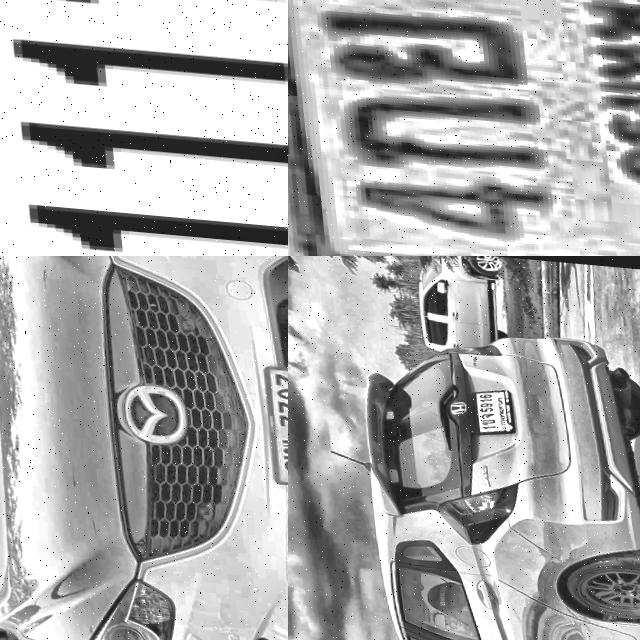license-plate: (288, 0, 640, 256), (0, 0, 288, 256), (252, 352, 288, 481), (465, 377, 515, 433)
